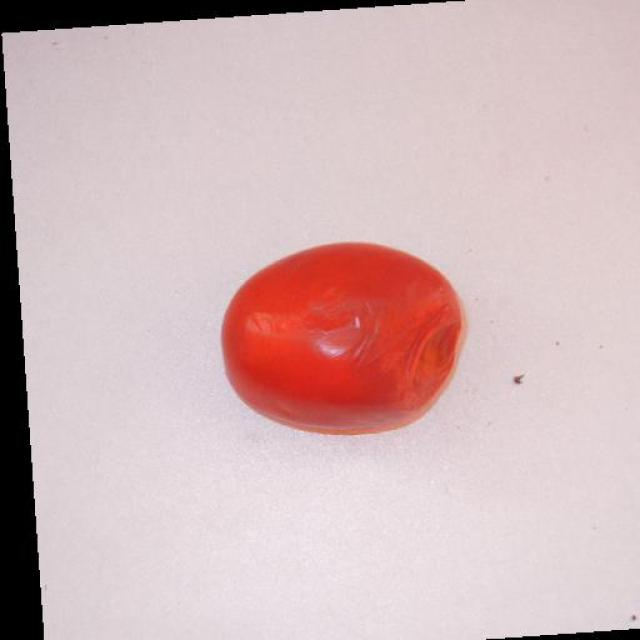Stale_tomato: (208, 246, 488, 433)
